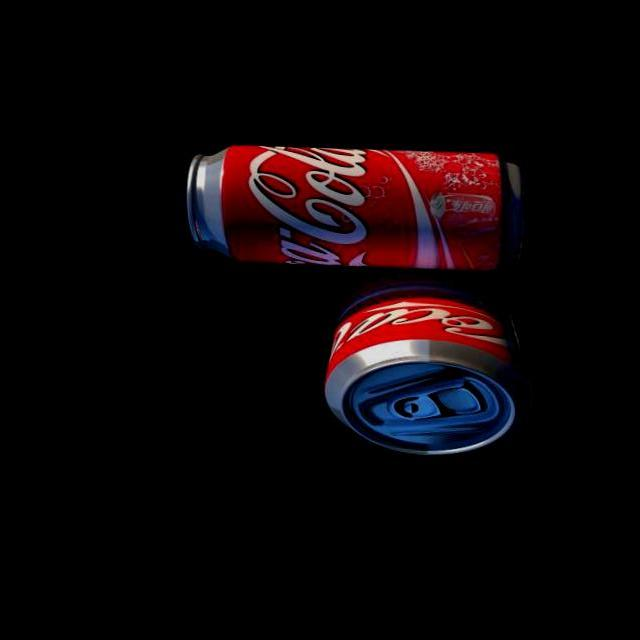litter: (175, 134, 536, 282), (316, 256, 522, 460)
